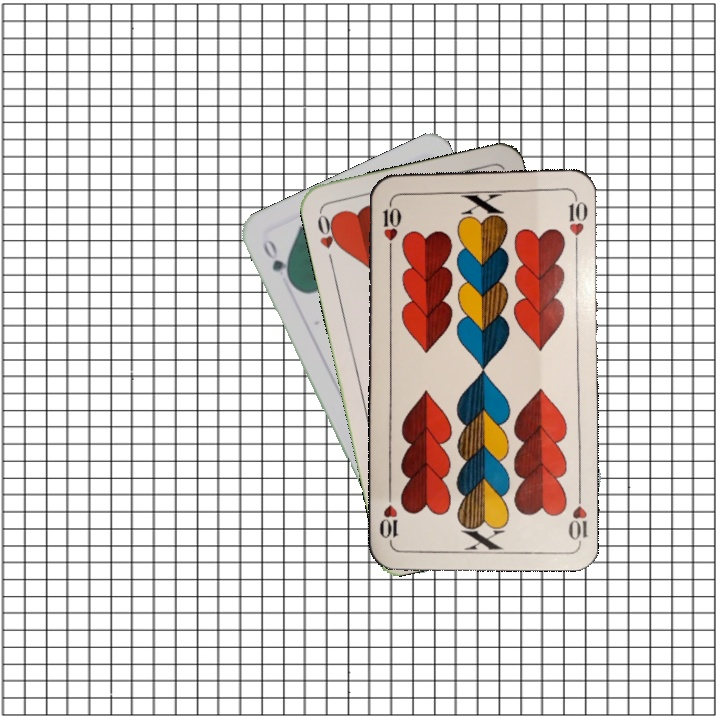GO: (258, 235, 296, 288)
H10: (564, 485, 589, 544), (379, 195, 403, 254)
HO: (313, 209, 343, 267)
